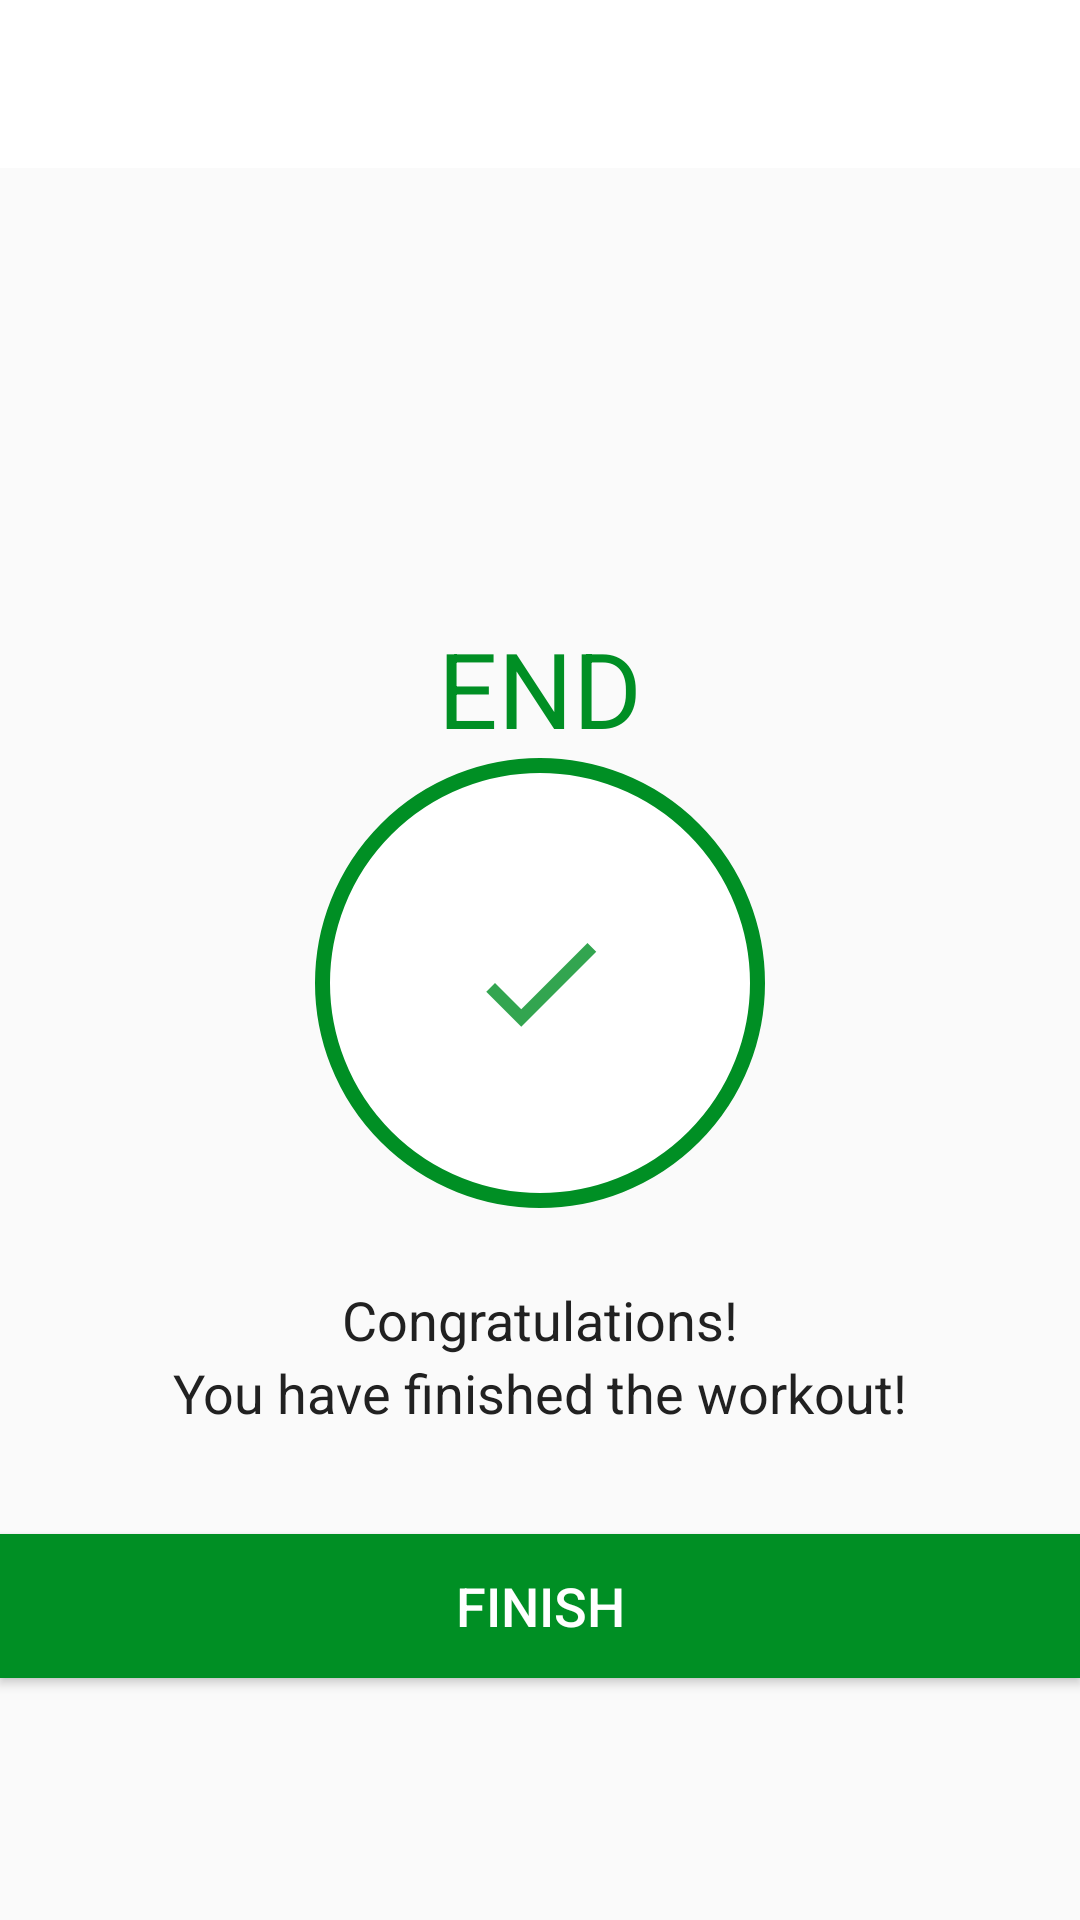

Icon click points for this 1080w x 1920h phone screenshot, format [x,y]:
done: [541,985]
